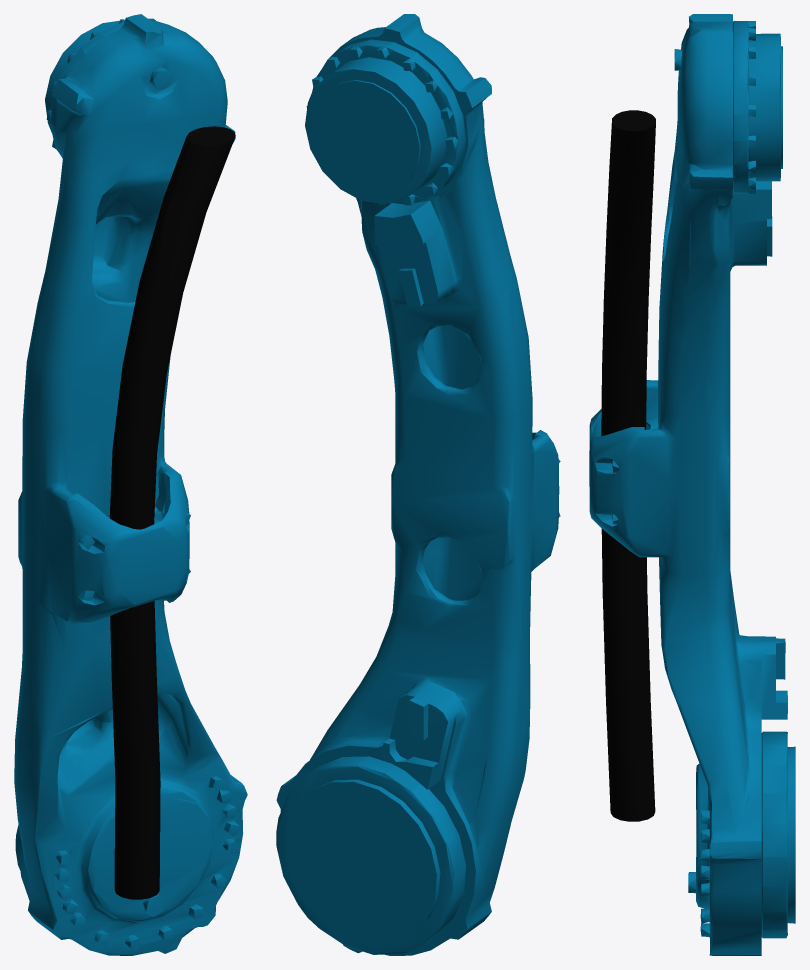
The picture shows the model from 3 angles, left to right: view 1: azimuth 30°, elevation 25°; view 2: azimuth 150°, elevation 25°; view 3: azimuth 270°, elevation 25°; orthographic projection.
Visible parts, largest first — view 1: f_1-06vxh12-a00_lk2; view 2: f_1-06vxh12-a00_lk2; view 3: f_1-06vxh12-a00_lk2.
Boxes of the visible parts, x1,y1,x2,y2 form: f_1-06vxh12-a00_lk2: (14,14,247,955); f_1-06vxh12-a00_lk2: (276,14,560,955); f_1-06vxh12-a00_lk2: (589,14,795,955).
Bounding box in the file's own units: 0.1962 × 0.1577 × 0.7814.
